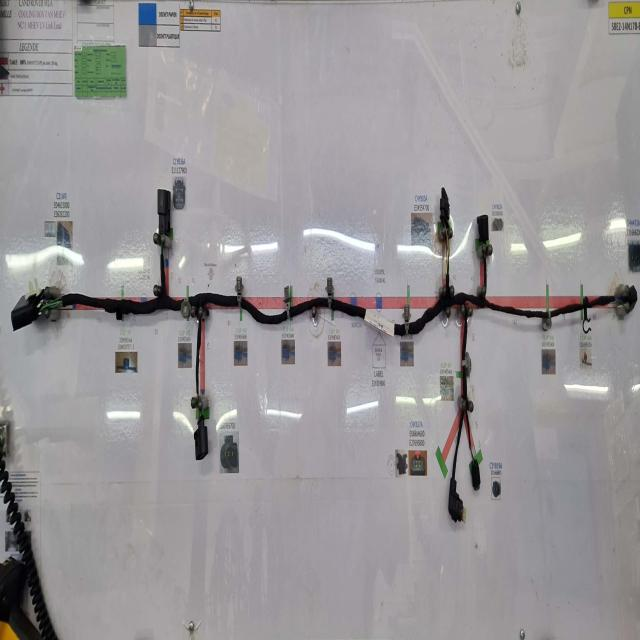Clip: (541, 298, 551, 331), (180, 294, 191, 321), (582, 298, 590, 335), (615, 284, 629, 304), (235, 276, 244, 307), (284, 287, 292, 321), (326, 277, 334, 308), (404, 303, 410, 335), (116, 301, 122, 321), (331, 311, 334, 321)
Connector: (11, 294, 40, 331), (449, 477, 466, 524), (194, 416, 209, 460), (158, 189, 170, 233), (440, 186, 450, 230), (470, 456, 480, 490), (478, 216, 489, 243), (628, 284, 638, 311)
Gape: (38, 292, 60, 312), (197, 397, 205, 421), (445, 230, 449, 278), (158, 244, 166, 264), (469, 446, 476, 466)
Info: (365, 311, 395, 338)
MHEV_N11_Cable: (63, 254, 615, 479)
